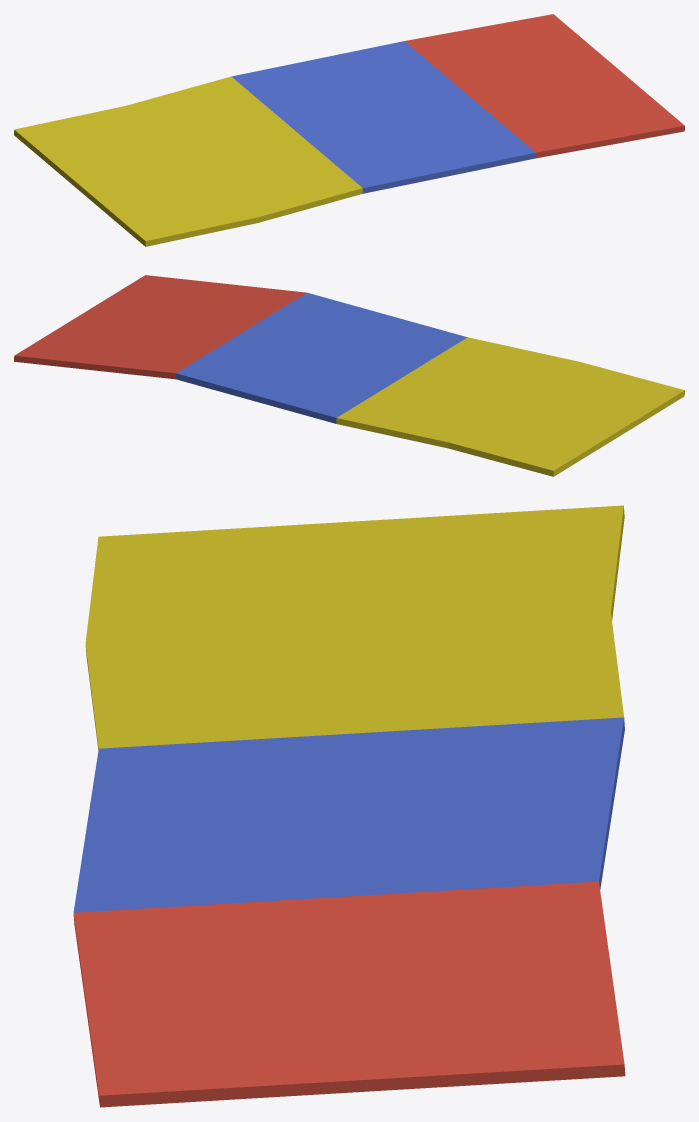
Rendered from Toalla1.fbx.
3 views of the same model, one above another, from view 1: azimuth 30°, elevation 25°; view 2: azimuth 150°, elevation 25°; view 3: azimuth 270°, elevation 25° (orthographic). The views are drawn at different scales.
Parts seen in each view (by area): view 1: TOWEL2; view 2: TOWEL2; view 3: TOWEL2.
Part boxes in pixels (box(x1,y1,x2,y2)): TOWEL2: box(14, 14, 684, 246); TOWEL2: box(14, 275, 684, 476); TOWEL2: box(73, 505, 625, 1107).
Size of the model in its own units: 1.39 by 0.0931 by 0.6172.
